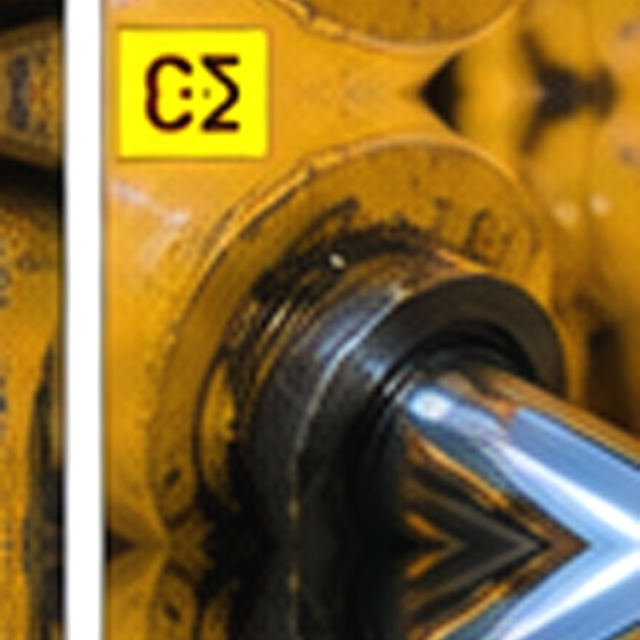hydraulic_oil_leak: (209, 182, 427, 446)
